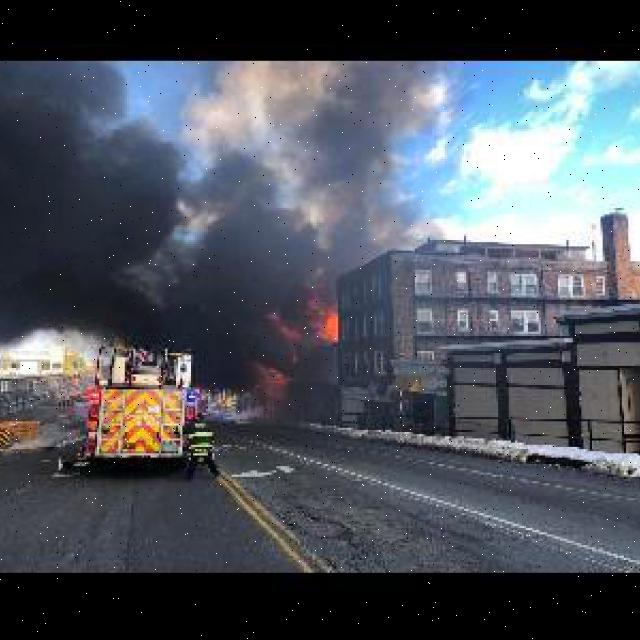fire: (319, 287, 349, 351)
smoke: (0, 61, 319, 351), (288, 61, 459, 287), (199, 353, 317, 424)
